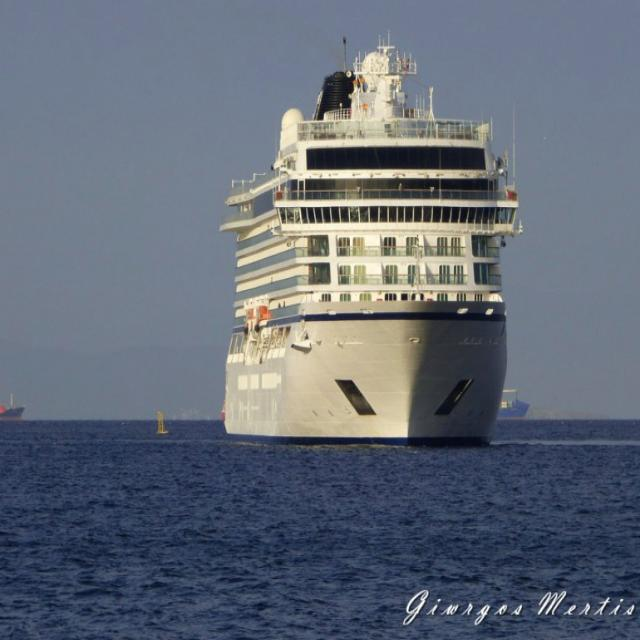cruises: (215, 29, 532, 457)
